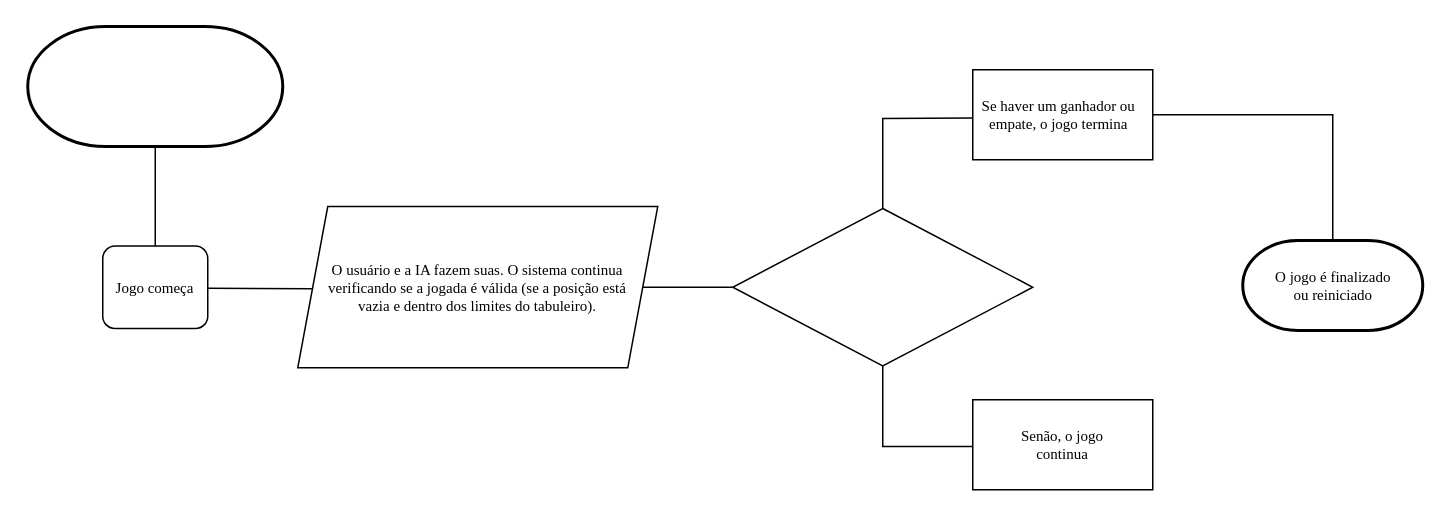
Some shapes in this 1449 by 518 pixel diagram are drawn without their labels. Here are the shapes that lost their labels. From the top down, the centre of each, then its label:
(155,85): Tabuleiro vazio, o usuário e a Inteligência Artificial (IA)
(882,286): O sistema atualiza o tabuleiro verifica se há um vencedor.
